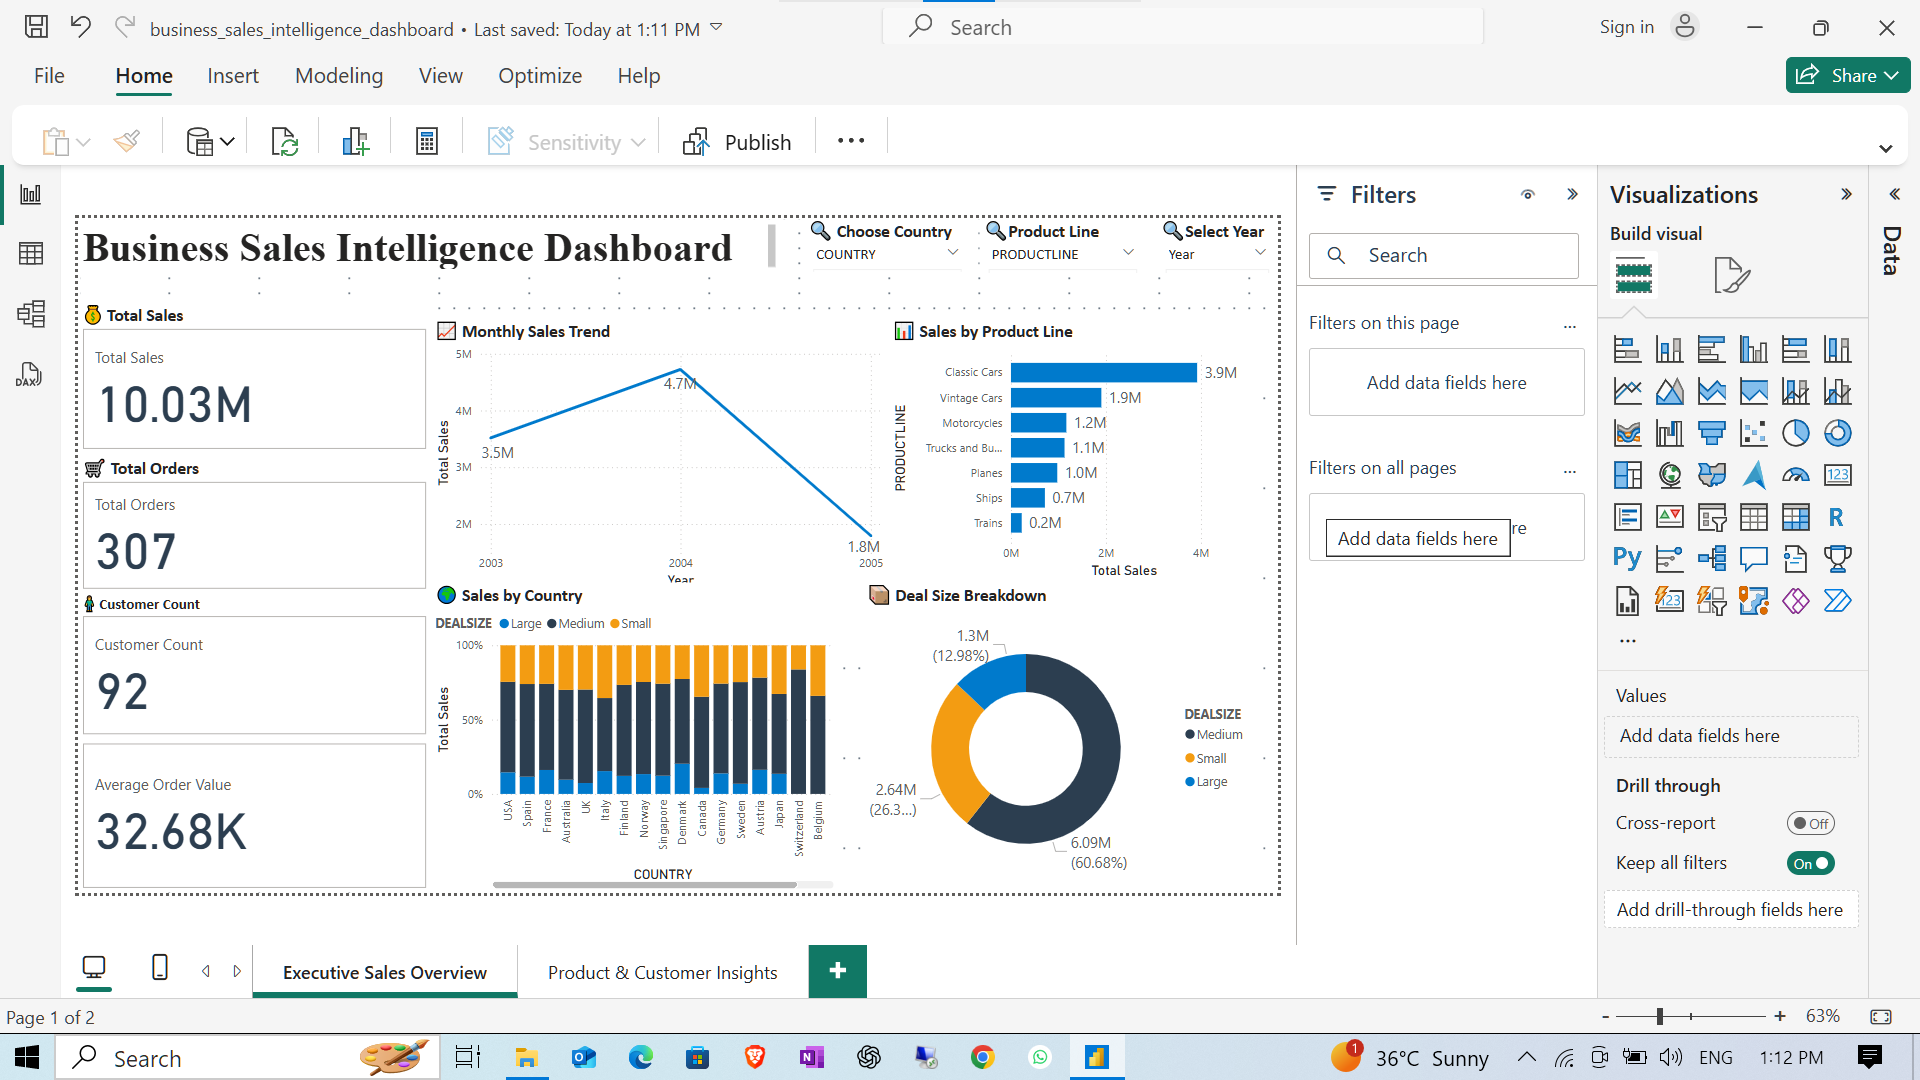

Layout of this report page (visuals, bound fields, positions):
{"tool":"powerbi","page":{"name":" Executive Sales Overview","canvas":[1280,720],"ordinal":0},"visuals":[{"type":"cardVisual","title":"💰 Total Sales","fields":{"Data":["SALES.Total Sales"]},"box":[0,90,376,162],"z":0},{"type":"cardVisual","title":"🧍 Customer Count","fields":{"Data":["SALES.Customer Count"]},"box":[0,400,376,156],"z":1000},{"type":"cardVisual","title":"🛒 Total Orders","fields":{"Data":["SALES.Total Orders"]},"box":[0,252,376,148],"z":2000},{"type":"cardVisual","title":"🧾 Average Order Value","fields":{"Data":["SALES.Average Order Value"]},"box":[0,555.9,376.3,164.1],"z":3000},{"type":"lineChart","title":"📈 Monthly Sales Trend","fields":{"Category":["SALES.ORDERDATE.Variation.Date Hierarchy.Year","SALES.ORDERDATE.Variation.Date Hierarchy.Month"],"Y":["SALES.Total Sales"]},"box":[376.3,106.8,487.7,292.6],"z":4000},{"type":"clusteredBarChart","title":"🚗  Sales by Product Line","fields":{"Category":["SALES.PRODUCTLINE"],"Y":["SALES.Total Sales"]},"box":[864,107.2,387.2,281.6],"z":5000},{"type":"donutChart","title":"📦 Deal Size Breakdown","fields":{"Category":["SALES.DEALSIZE"],"Y":["SALES.Total Sales"]},"box":[836.1,388.6,427.4,331.4],"z":6000},{"type":"hundredPercentStackedColumnChart","title":"🌍 Sales by Country","fields":{"Category":["SALES.COUNTRY"],"Y":["SALES.Total Sales"],"Series":["SALES.DEALSIZE"]},"box":[376.3,388.6,435.1,331.4],"z":7000},{"type":"slicer","title":"🔍Product Line","fields":{"Values":["SALES.PRODUCTLINE"]},"box":[961.5,0,178.1,58.8],"z":8000},{"type":"slicer","title":"🔍 Choose Country","fields":{"Values":["SALES.COUNTRY"]},"box":[774.2,0,178.1,57.3],"z":9000},{"type":"slicer","title":"🔍Select Year","fields":{"Values":["SALES.ORDERDATE.Variation.Date Hierarchy.Year"]},"box":[1150.5,0,130.1,58.8],"z":10000},{"type":"textbox","box":[0,1.6,748.8,57.6],"z":11000}]}

Visuals, with their boxes on the page's 1280x720 design canvas (x1, y1, x2, y2). These are canvas units, not pixel positions in the 1920x1080 screenshot, which may show the page scaled, cropped or inside an application window:
"💰 Total Sales" cardVisual: x1=0 y1=90 x2=376 y2=252
"🧍 Customer Count" cardVisual: x1=0 y1=400 x2=376 y2=556
"🛒 Total Orders" cardVisual: x1=0 y1=252 x2=376 y2=400
"🧾 Average Order Value" cardVisual: x1=0 y1=556 x2=376 y2=720
"📈 Monthly Sales Trend" lineChart: x1=376 y1=107 x2=864 y2=399
"🚗  Sales by Product Line" clusteredBarChart: x1=864 y1=107 x2=1251 y2=389
"📦 Deal Size Breakdown" donutChart: x1=836 y1=389 x2=1264 y2=720
"🌍 Sales by Country" hundredPercentStackedColumnChart: x1=376 y1=389 x2=811 y2=720
"🔍Product Line" slicer: x1=962 y1=0 x2=1140 y2=59
"🔍 Choose Country" slicer: x1=774 y1=0 x2=952 y2=57
"🔍Select Year" slicer: x1=1150 y1=0 x2=1281 y2=59
textbox: x1=0 y1=2 x2=749 y2=59
